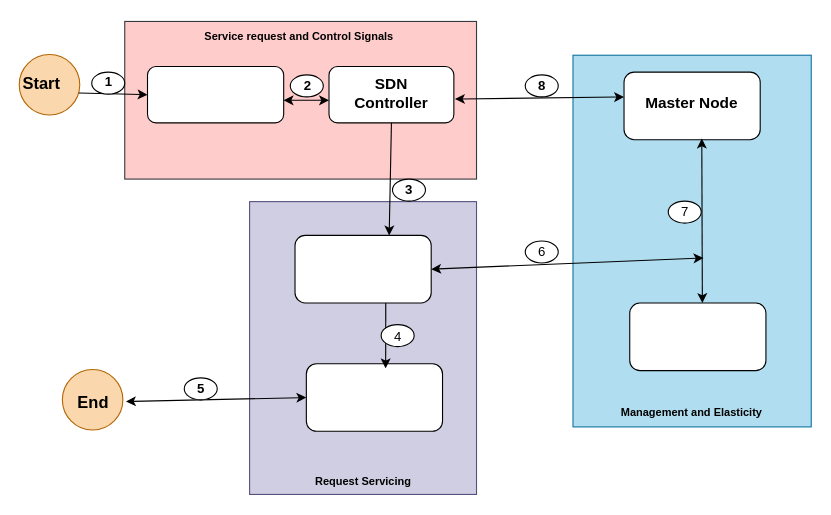
The diagram is 831 pixels wide and 515 high, and some of its shapes have lost their labels. Each missing label, with the centre of its shape:
"MEC Agent" belongs at (374,397).
"Resource Orchestrator" belongs at (215,94).
"SC Agent" belongs at (362,268).
"Service Orchestrator" belongs at (697,336).
